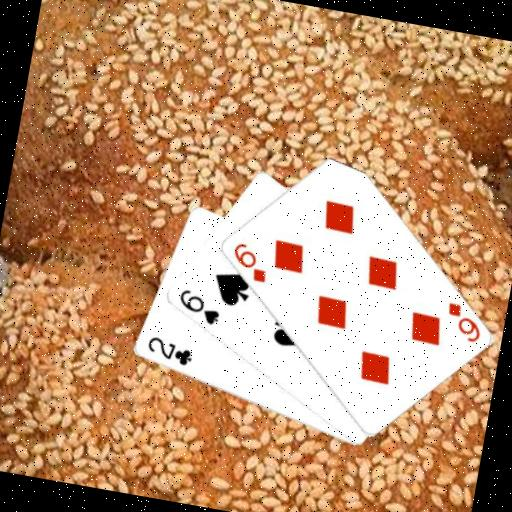2C: (141, 332, 196, 369)
6D: (439, 298, 487, 345), (225, 238, 272, 285)
6S: (172, 284, 224, 327)
